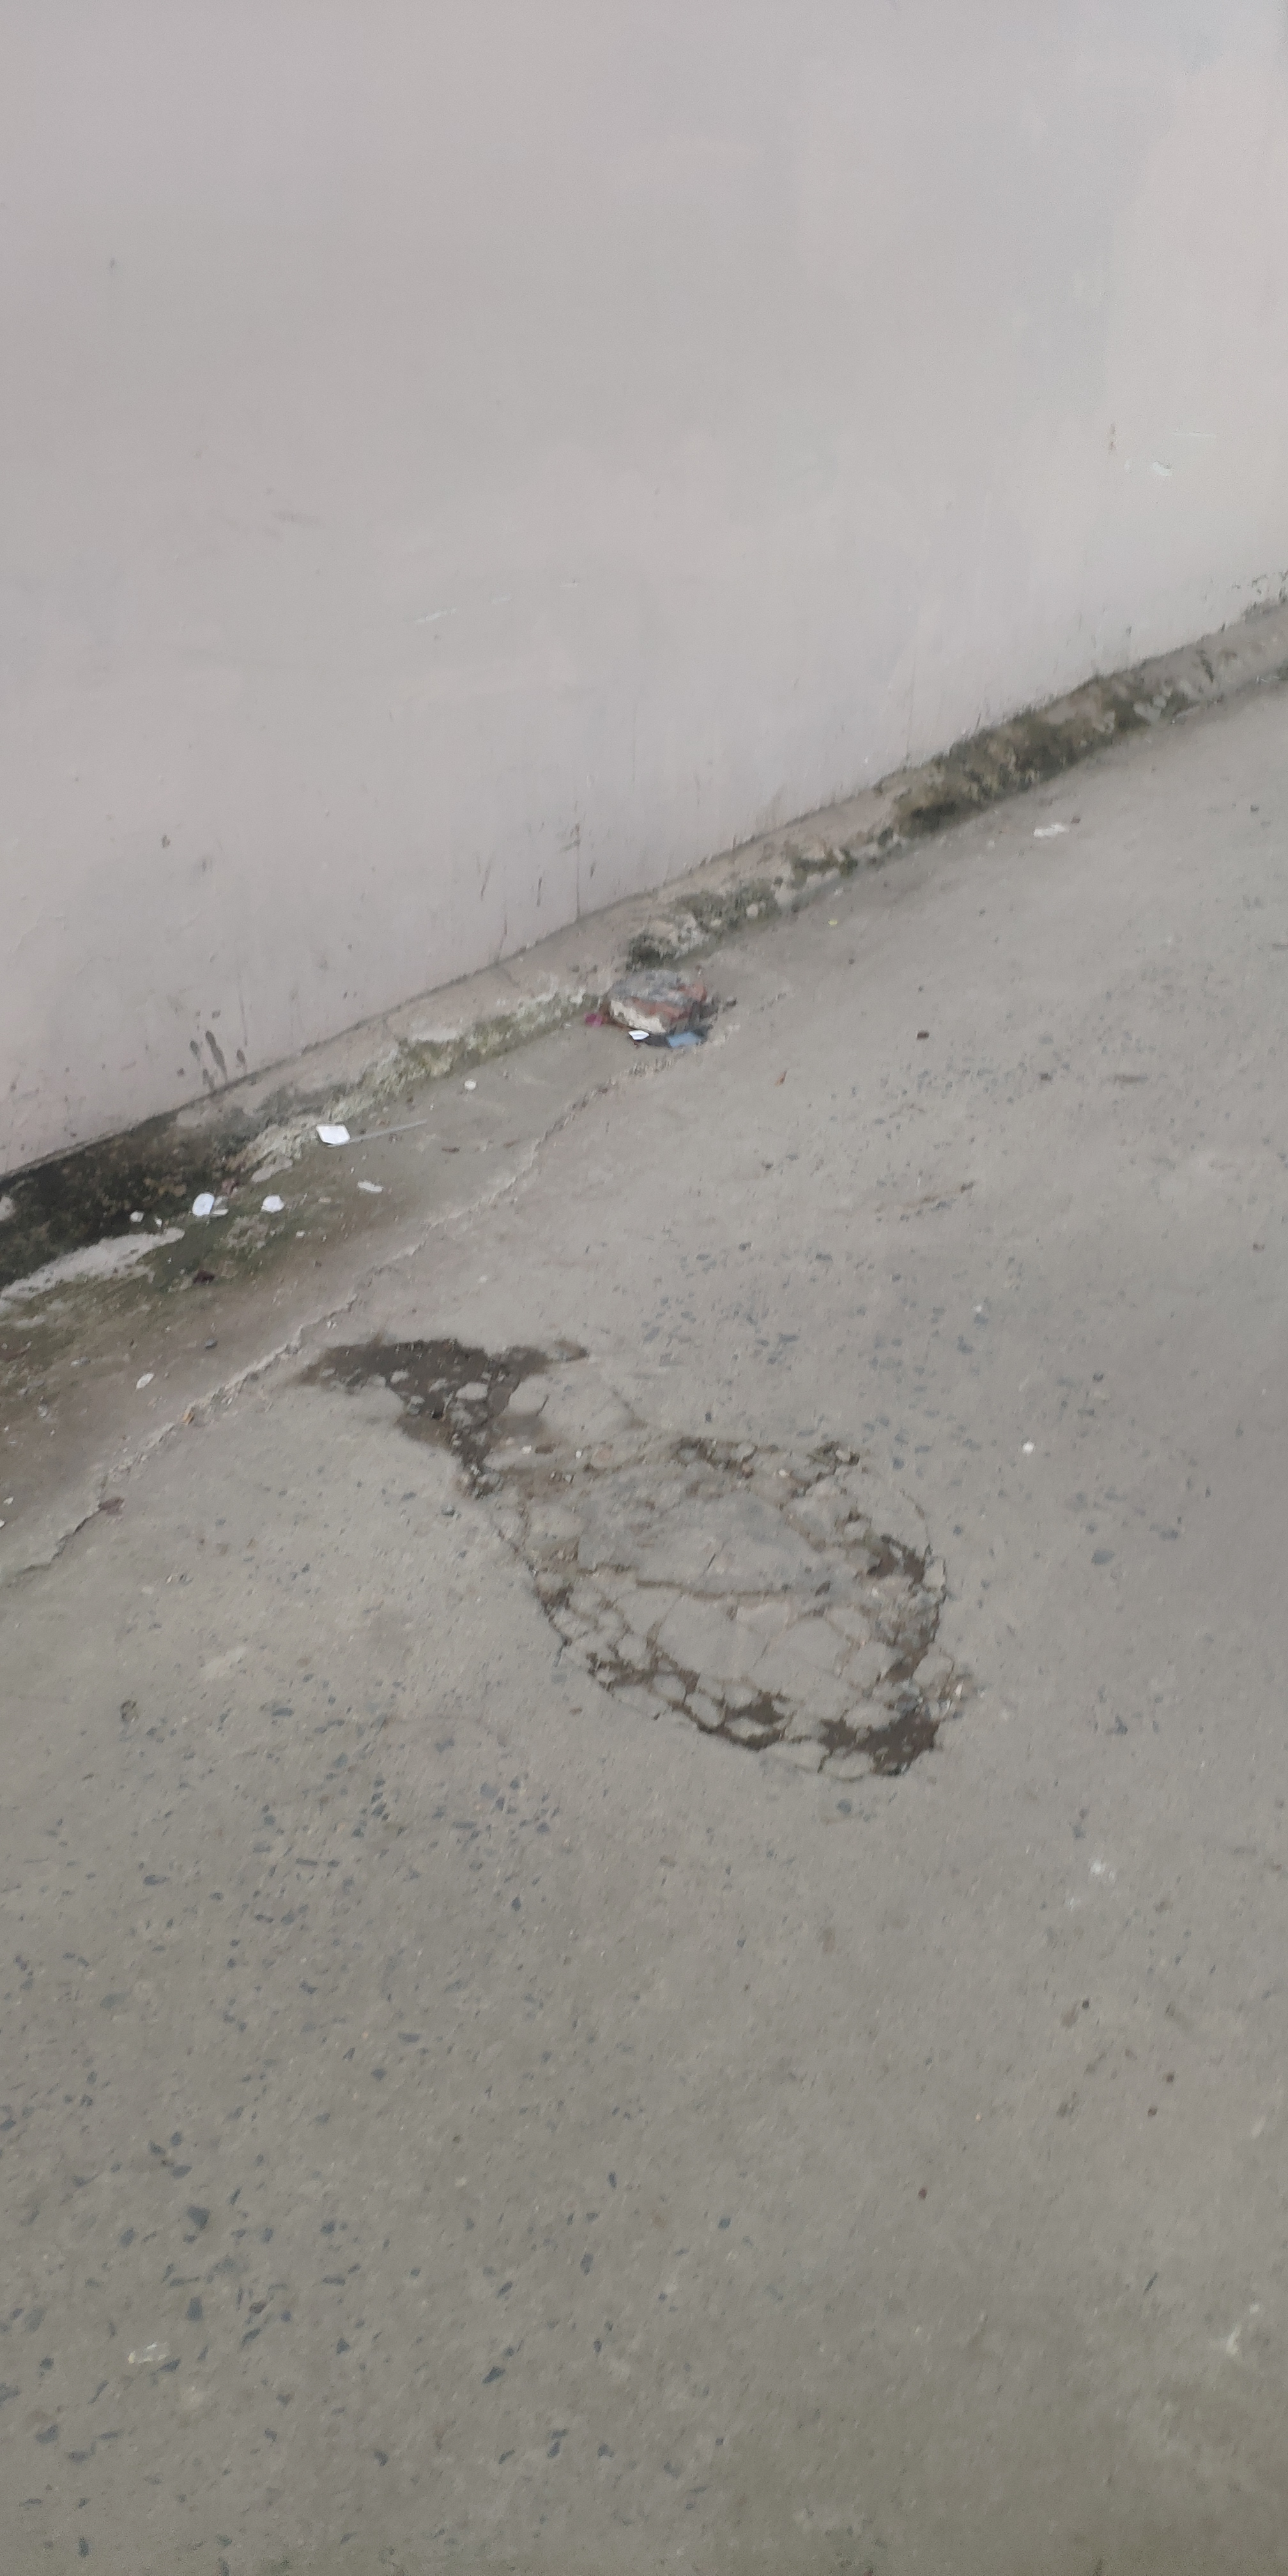hole: (337, 1337, 974, 1784)
